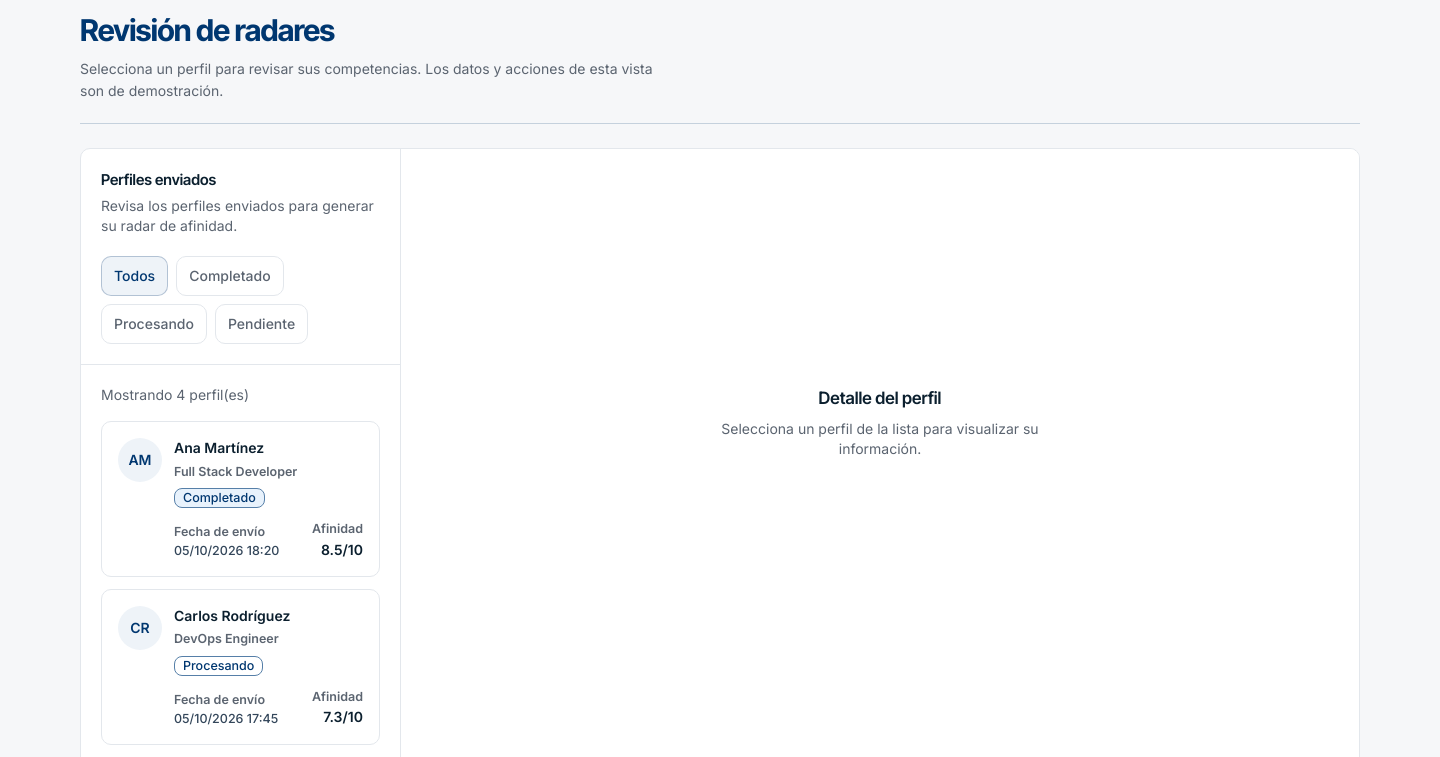
Scenario: ColaRevisionPage › filtra los perfiles pendientes
Click the button "Pendiente" at (262, 324), box [215, 304, 308, 344]
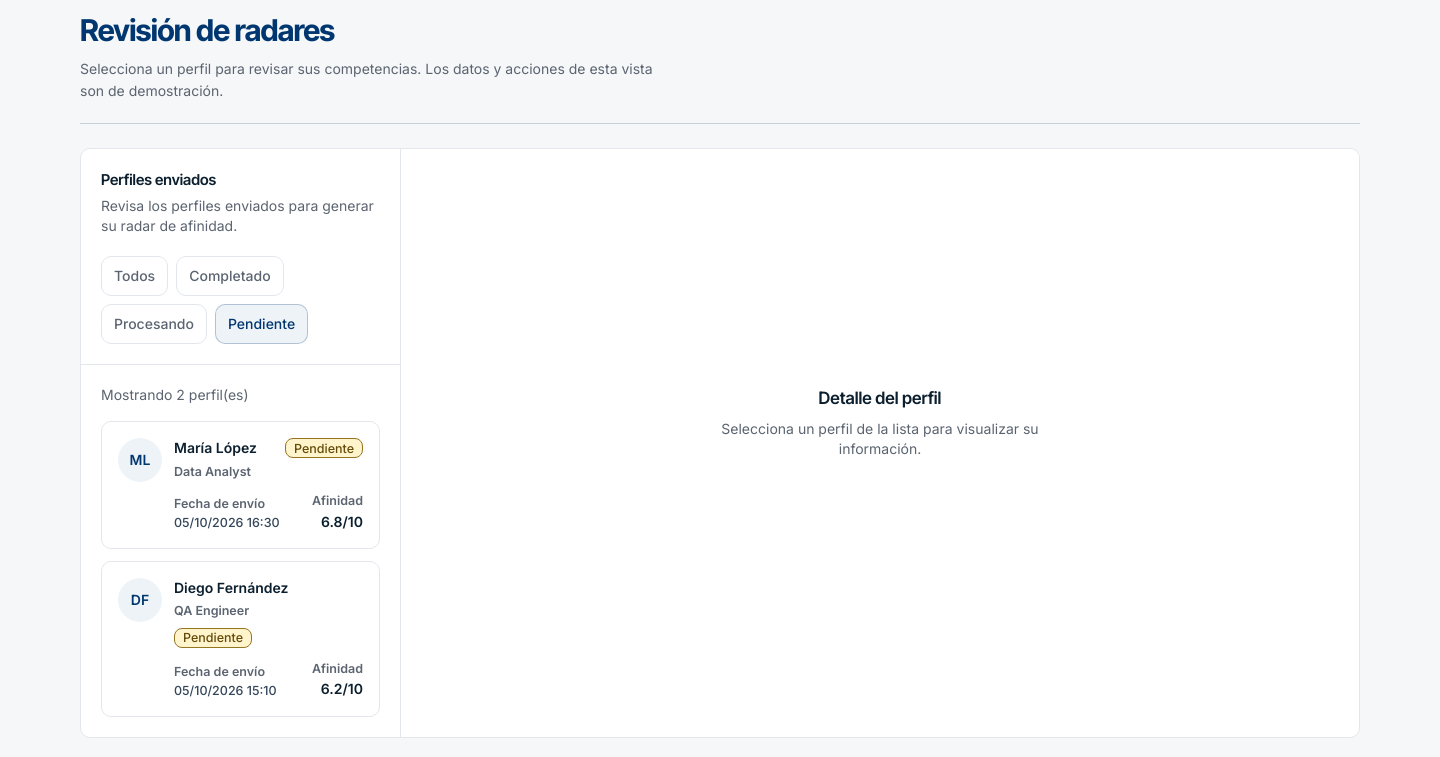
Expected: the button "Ana Martínez" is gone
Expected: the button "Carlos Rodríguez" is gone
Expected: the text "Mostrando 2 perfil(es)" is shown, [101, 386, 249, 403]
